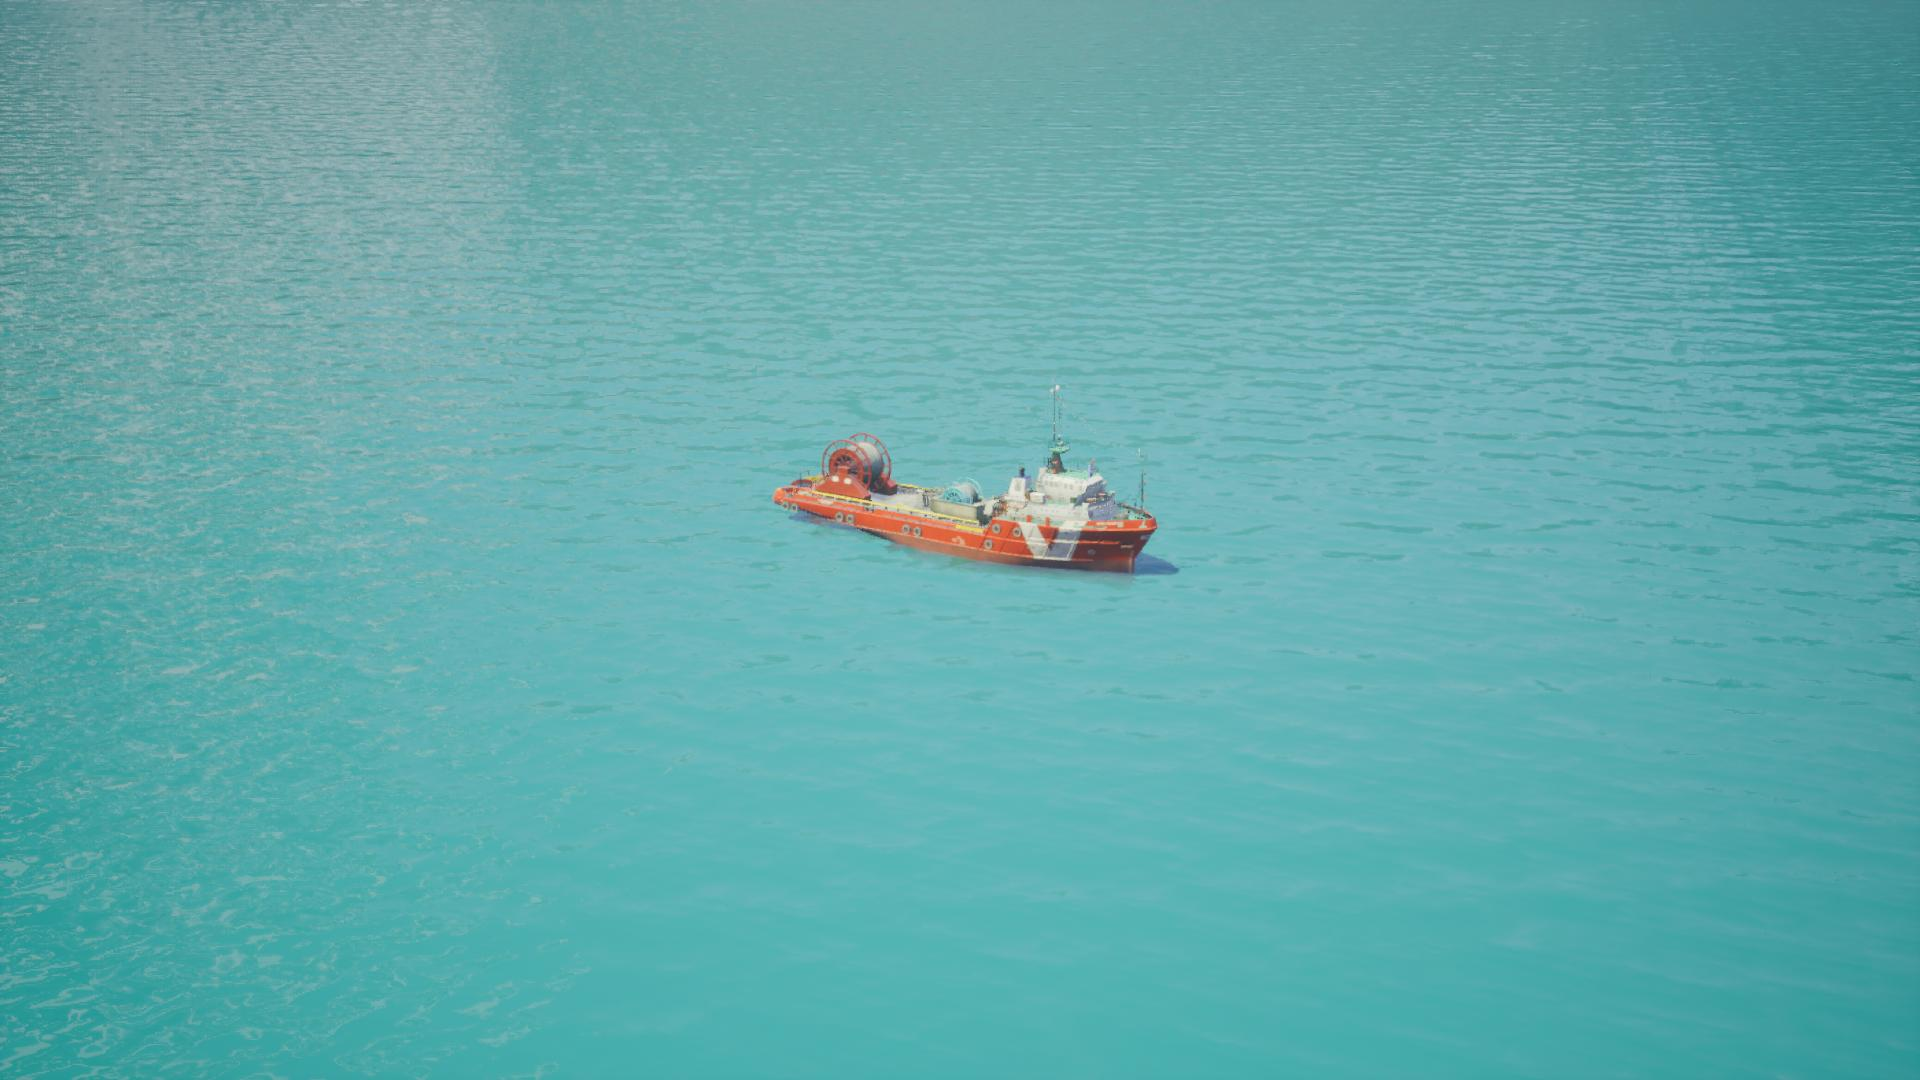Tug Boat: (769, 397, 1164, 578)
